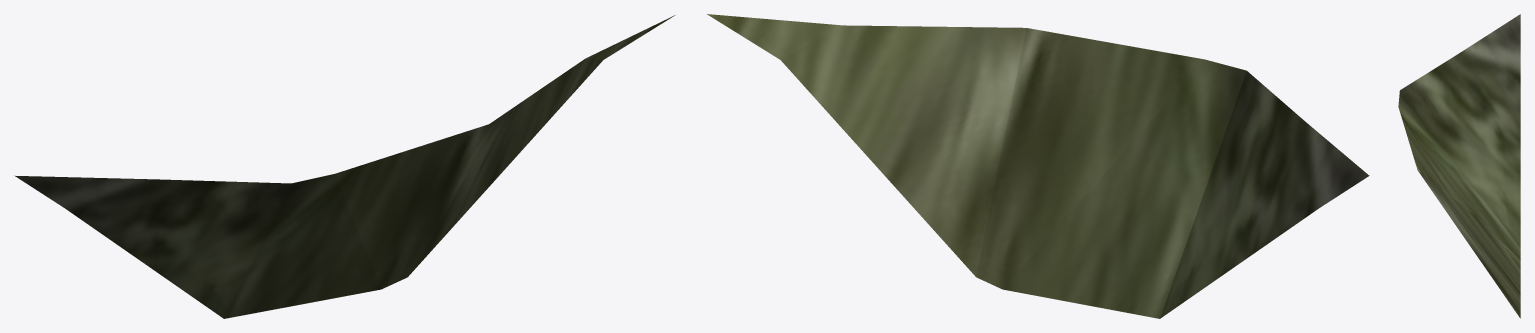
3 renders of one model, left to right at view 1: azimuth 30°, elevation 25°; view 2: azimuth 150°, elevation 25°; view 3: azimuth 270°, elevation 25°, orthographic. The views are drawn at different scales.
Bounding box in the file's own units: 2.19 × 0.6419 × 0.4467.
1 material, 1 textured.
